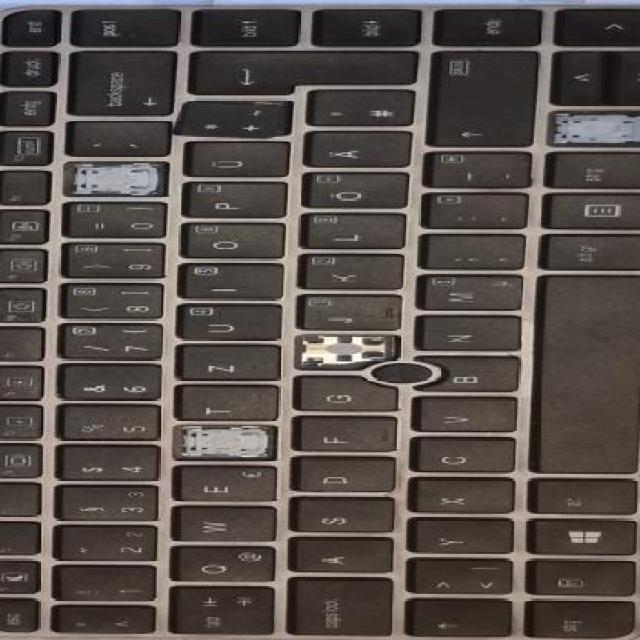Keyboard problems: (164, 414, 285, 466), (288, 325, 404, 378), (61, 154, 177, 202), (545, 104, 640, 153)
